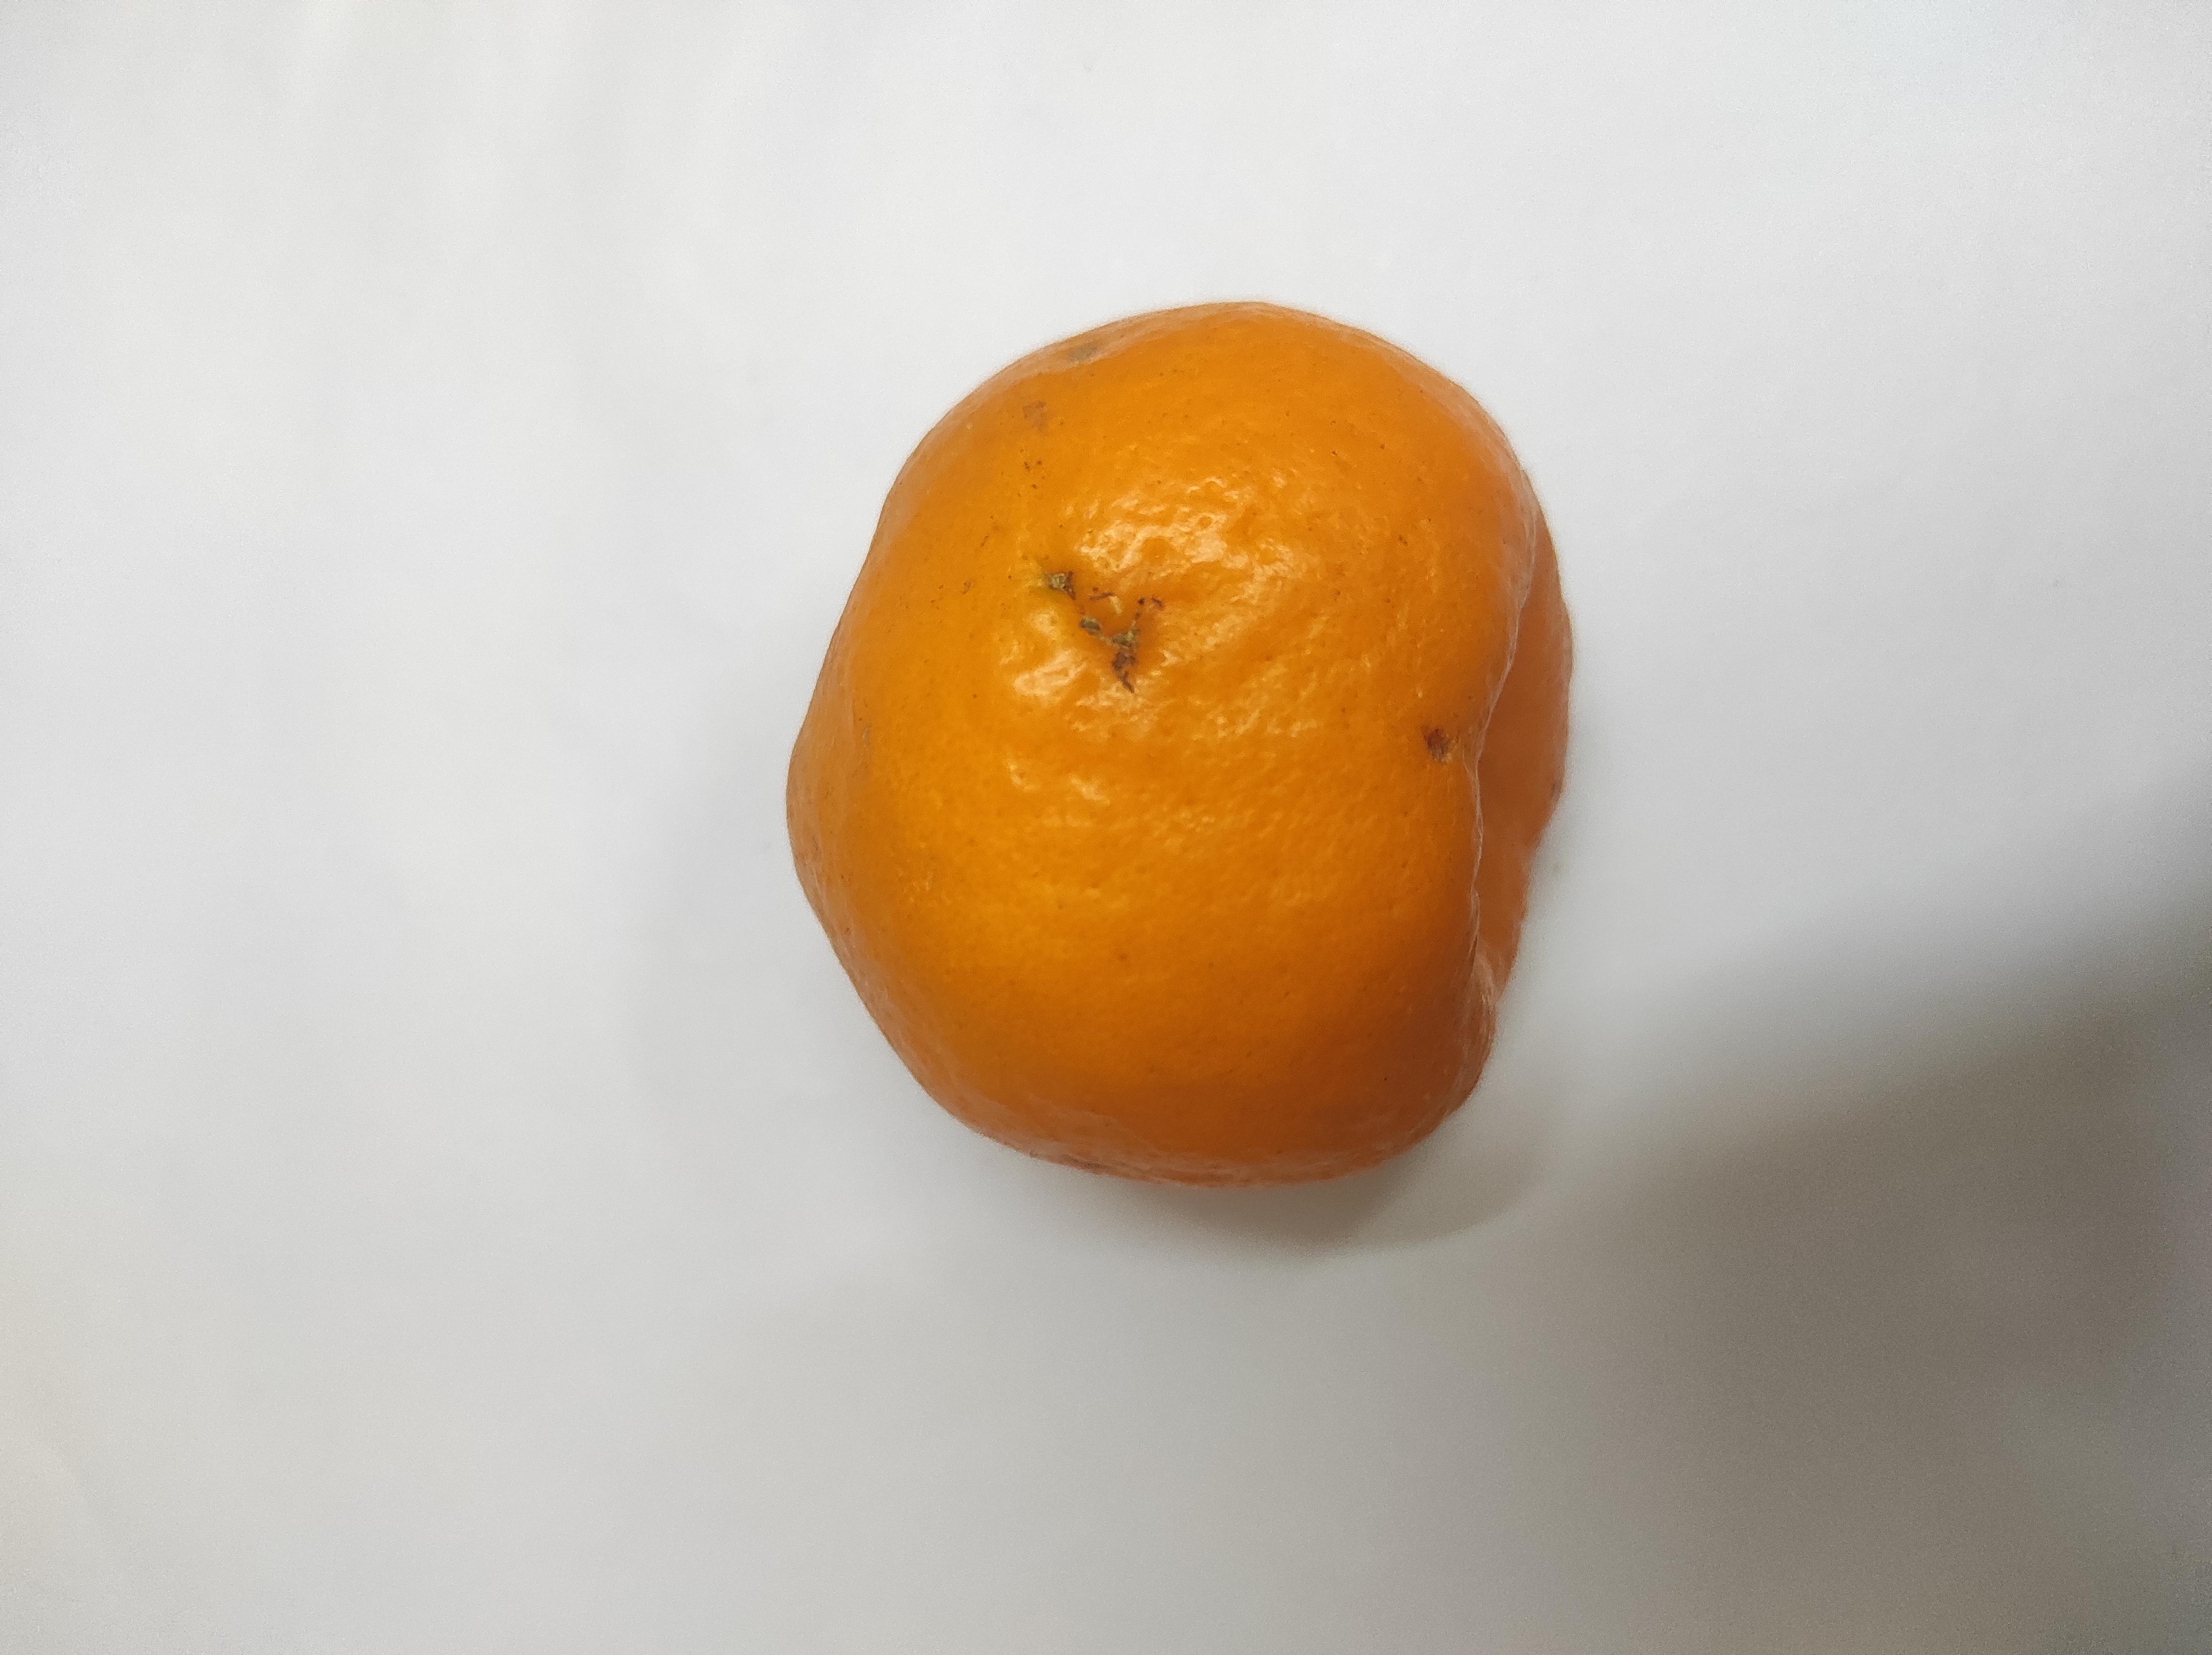Ripe: (791, 296, 1577, 1182)
